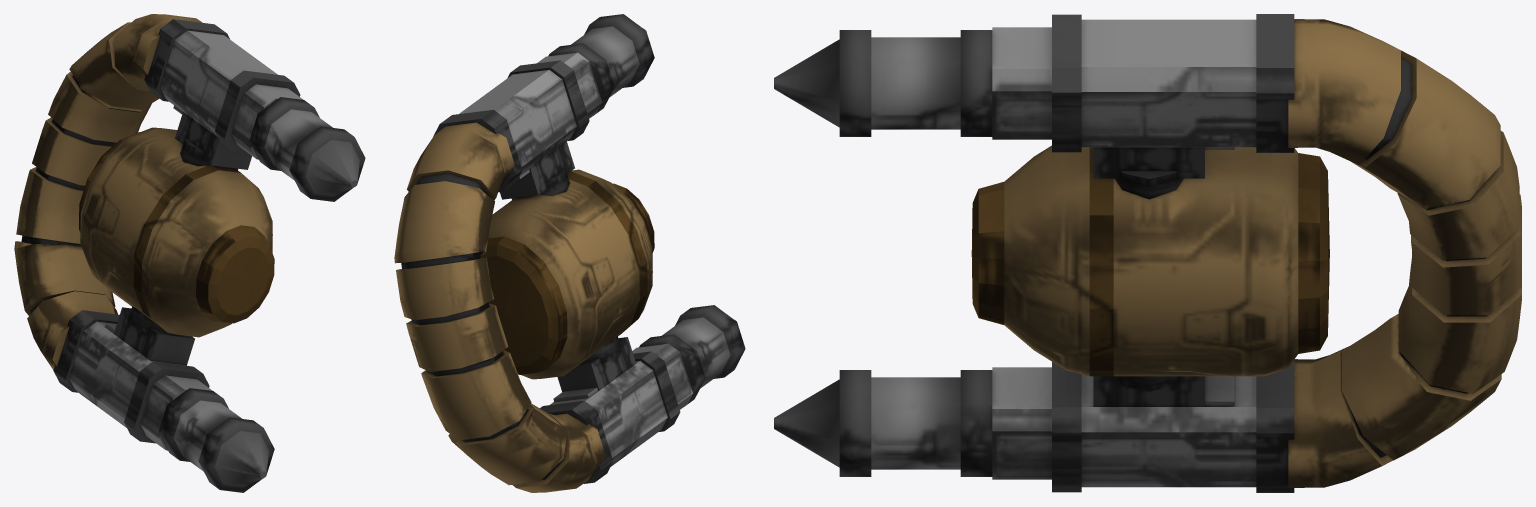
File: newsh2-191-f6.glb
The picture shows the model from 3 angles, left to right: view 1: azimuth 30°, elevation 25°; view 2: azimuth 150°, elevation 25°; view 3: azimuth 270°, elevation 25°; orthographic projection. The views are drawn at different scales.
Parts seen in each view (by area): view 1: newsh2-191-f6; view 2: newsh2-191-f6; view 3: newsh2-191-f6.
Boxes of the visible parts, <box> form: newsh2-191-f6: <box>14,14,365,492</box>; newsh2-191-f6: <box>394,14,745,492</box>; newsh2-191-f6: <box>774,14,1521,492</box>.
Size of the model in its own units: 0.6374 by 1.23 by 1.57.
7 materials, 7 textured.
